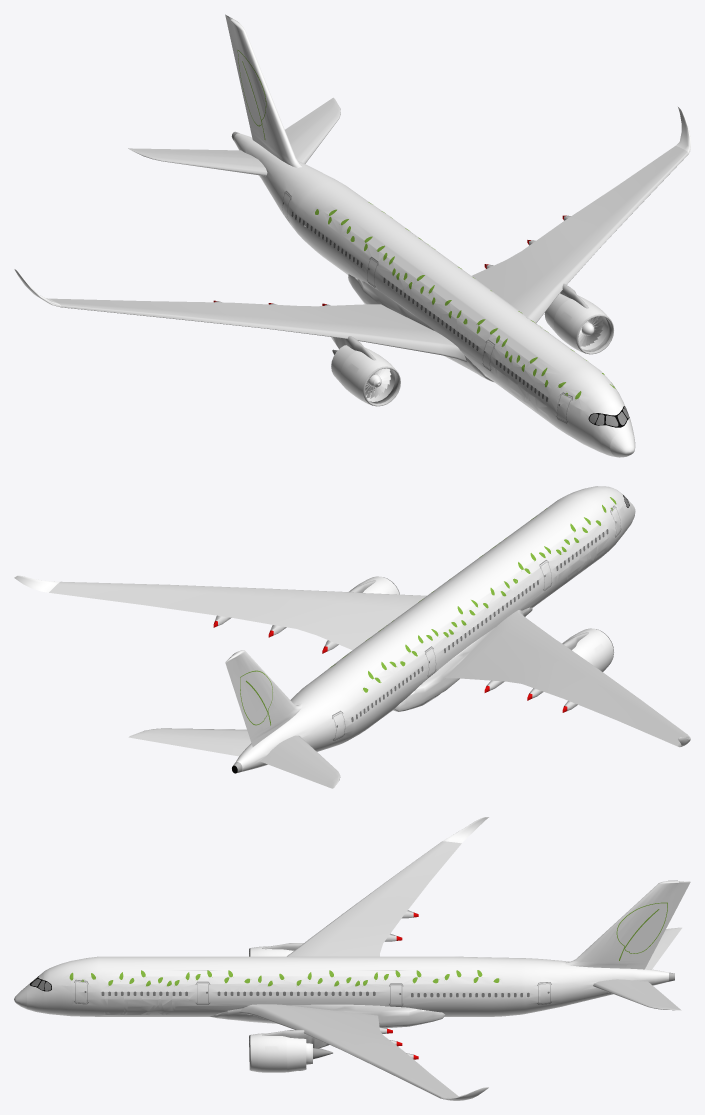
3 renders of one model, top to bottom at view 1: azimuth 30°, elevation 25°; view 2: azimuth 150°, elevation 25°; view 3: azimuth 270°, elevation 25°, orthographic. The views are drawn at different scales.
Parts seen in each view (by area): view 1: A350; view 2: A350; view 3: A350.
Boxes of the visible parts, x1=… form: A350: x1=14, y1=14, x2=690, y2=457; A350: x1=14, y1=486, x2=690, y2=788; A350: x1=14, y1=817, x2=690, y2=1100.
Size of the model in its own units: 63.3 by 15.93 by 66.94.
